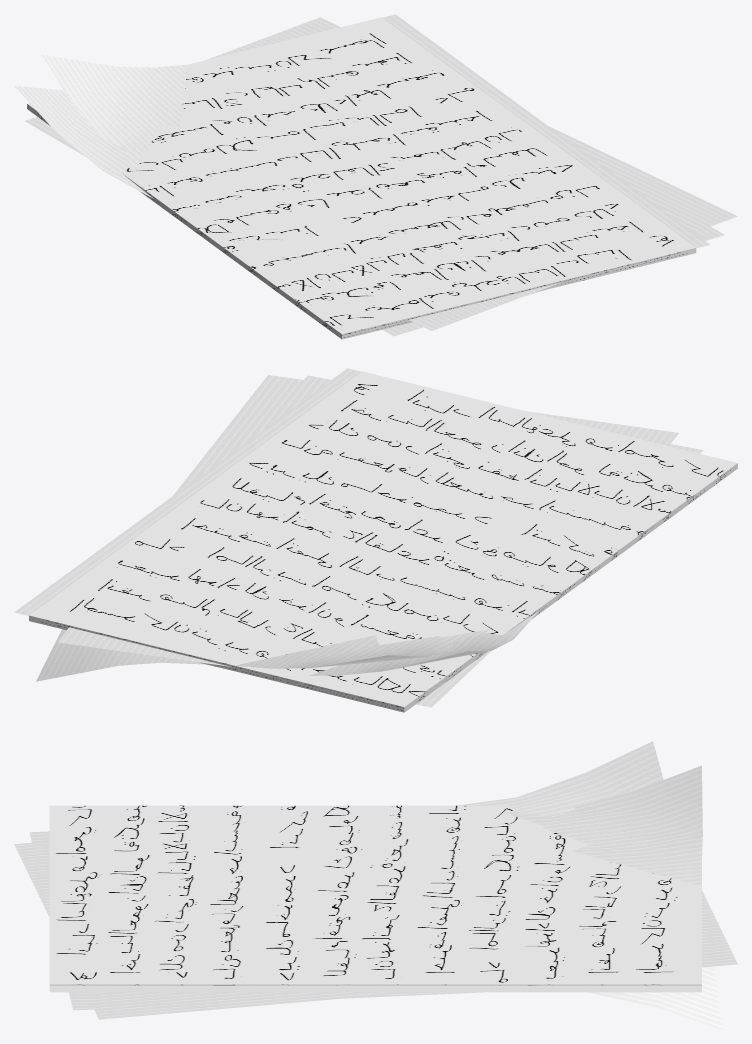
The model's file is Exercise.fbx.
3 renders of one model, top to bottom at view 1: azimuth 30°, elevation 25°; view 2: azimuth 150°, elevation 25°; view 3: azimuth 270°, elevation 25°, orthographic. The views are drawn at different scales.
Parts seen in each view (by area): view 1: 01; view 2: 01; view 3: 01.
Part boxes in pixels (x1=…): 01: x1=14, y1=14, x2=737, y2=339; 01: x1=14, y1=368, x2=737, y2=712; 01: x1=14, y1=741, x2=737, y2=1029.
Bounding box in the file's own units: 83.7 × 17.01 × 111.
1 material, 1 textured.
